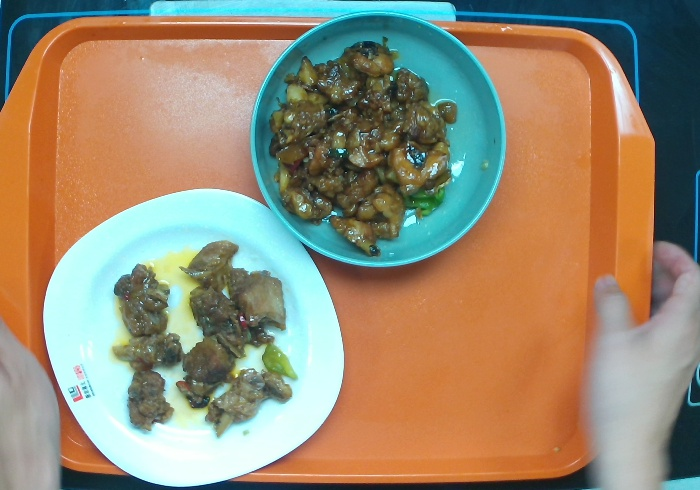ZNLD-Qing_Hua_Yuan_Wan: (238, 6, 509, 276)
ZNLD-Yuan_Jiao_Pan: (40, 179, 364, 490)
